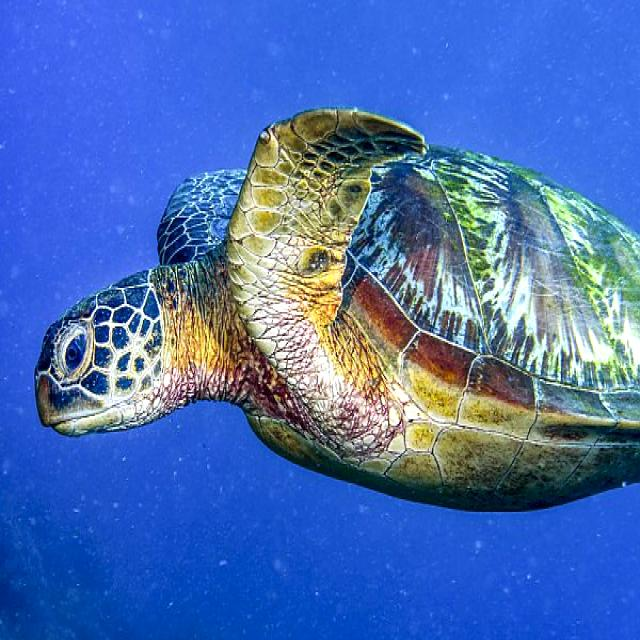Sea turtle: (33, 100, 640, 522)
